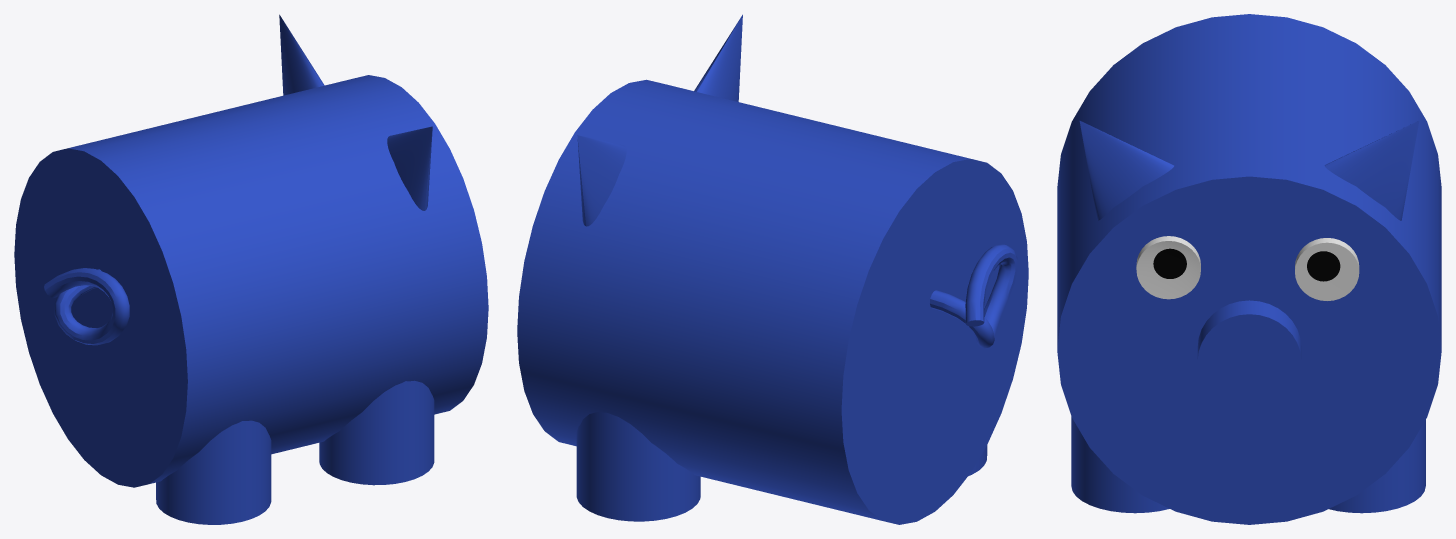
The model's file is Piggie.fbx.
3 views of the same model, side by side, from view 1: azimuth 30°, elevation 25°; view 2: azimuth 150°, elevation 25°; view 3: azimuth 270°, elevation 25° (orthographic). The views are drawn at different scales.
Parts seen in each view (by area): view 1: Piggie; view 2: Piggie; view 3: Piggie.
Boxes of the visible parts, x1,y1,x2,y2 form: Piggie: (14,14,488,524); Piggie: (517,14,1028,524); Piggie: (1057,14,1441,524).
Bounding box in the file's own units: 251 × 220 × 200.
